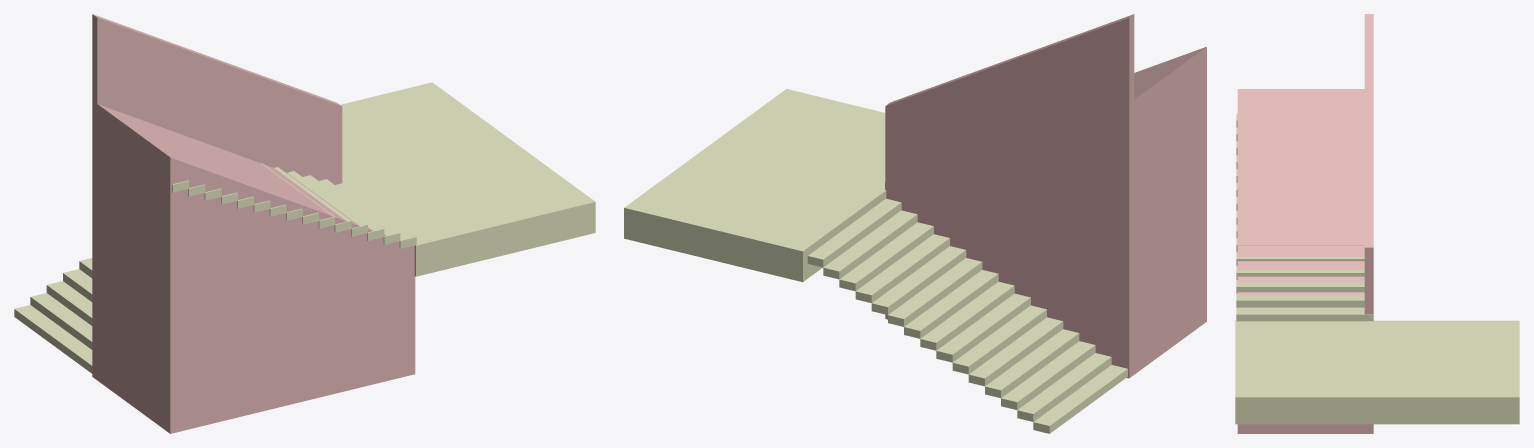
The model's file is BG_stairs.fbx.
3 views of the same model, side by side, from view 1: azimuth 30°, elevation 25°; view 2: azimuth 150°, elevation 25°; view 3: azimuth 270°, elevation 25° (orthographic). The views are drawn at different scales.
Visible parts, largest first — view 1: Cube.018, Cube.004, Cube.021, Cube.019; view 2: Cube.018, Cube.004, Cube.019; view 3: Cube.004, Cube.018, Cube.021.
Boxes of the visible parts, left/top/right/bottom form: Cube.018: left=92, top=14, right=415, bottom=433; Cube.004: left=340, top=82, right=595, bottom=276; Cube.021: left=172, top=163, right=416, bottom=248; Cube.019: left=14, top=258, right=92, bottom=373; Cube.018: left=885, top=14, right=1206, bottom=378; Cube.004: left=624, top=89, right=886, bottom=282; Cube.019: left=807, top=198, right=1127, bottom=433; Cube.004: left=1235, top=320, right=1519, bottom=424; Cube.018: left=1237, top=14, right=1373, bottom=433; Cube.021: left=1236, top=113, right=1373, bottom=321.
Size of the model in its own units: 607 by 496 by 405.
